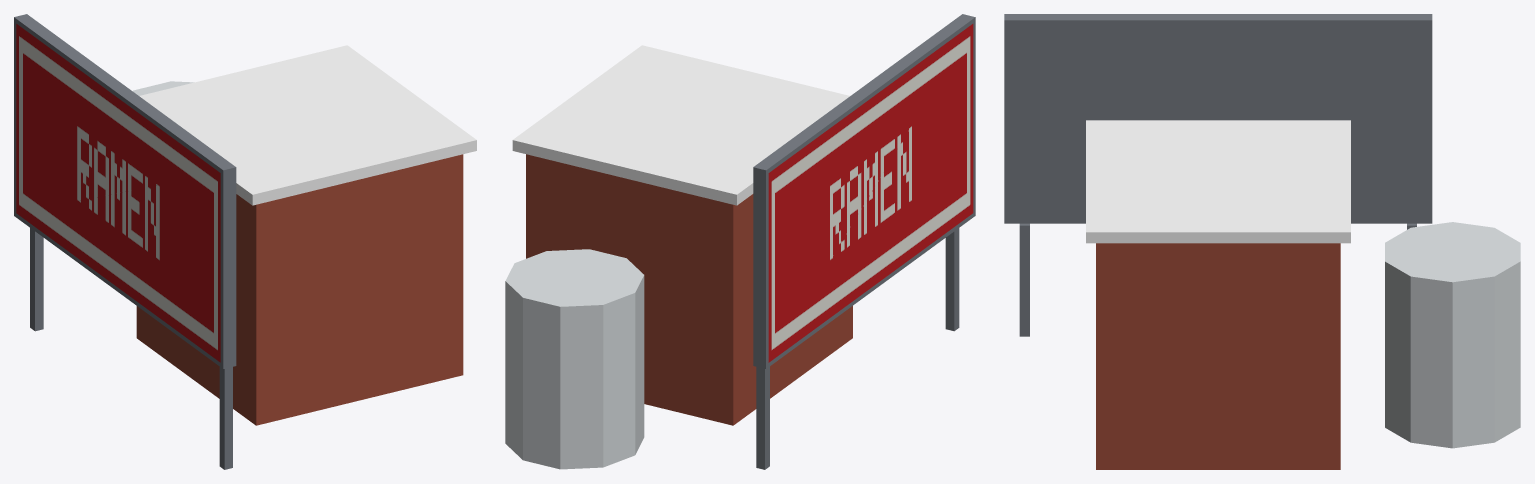
Rendered from roofprop.fbx.
3 views of the same model, side by side, from view 1: azimuth 30°, elevation 25°; view 2: azimuth 150°, elevation 25°; view 3: azimuth 270°, elevation 25° (orthographic). The views are drawn at different scales.
Parts seen in each view (by area): view 1: a2009/600/roofprop; view 2: a2009/600/roofprop; view 3: a2009/600/roofprop.
Part boxes in pixels (left/top/right/bottom): a2009/600/roofprop: left=14, top=14, right=476, bottom=469; a2009/600/roofprop: left=505, top=14, right=975, bottom=469; a2009/600/roofprop: left=1004, top=14, right=1520, bottom=469.
Size of the model in its own units: 3.4 by 3.4 by 5.07.
